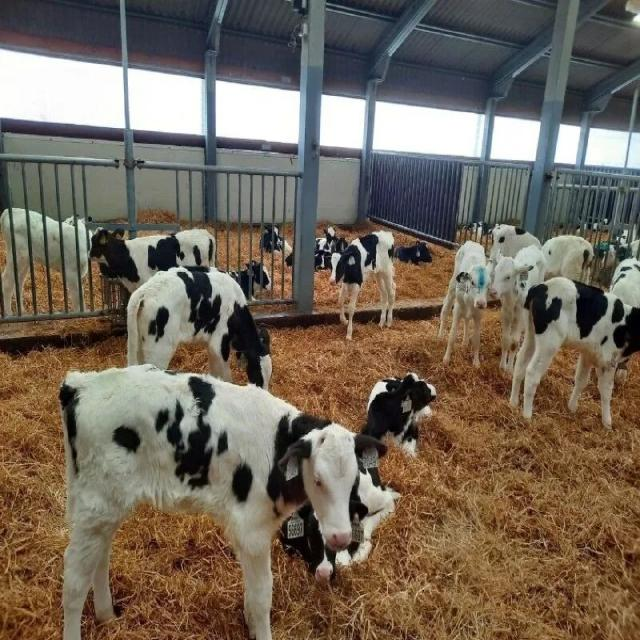cow: (57, 362, 398, 639), (438, 221, 640, 429), (508, 275, 639, 430), (125, 262, 273, 390), (0, 206, 98, 318), (87, 225, 216, 303), (328, 228, 396, 342), (438, 239, 490, 368), (362, 371, 436, 458), (258, 223, 292, 262), (392, 240, 432, 265)
